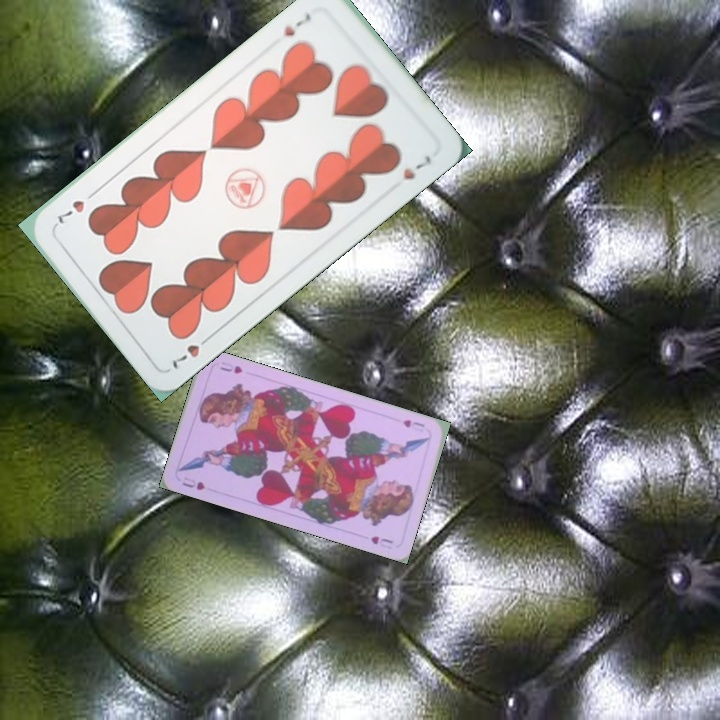H7: (168, 330, 216, 373), (280, 9, 315, 40)
HU: (178, 473, 208, 493), (399, 415, 427, 435)
